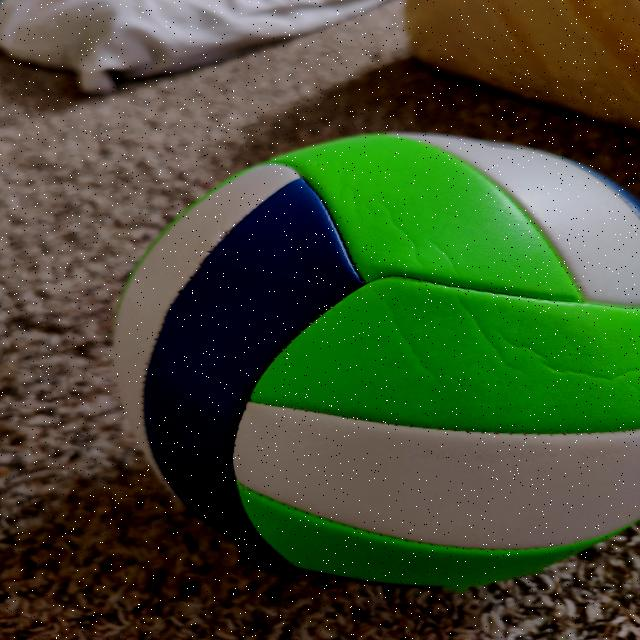ball: (132, 138, 638, 587)
